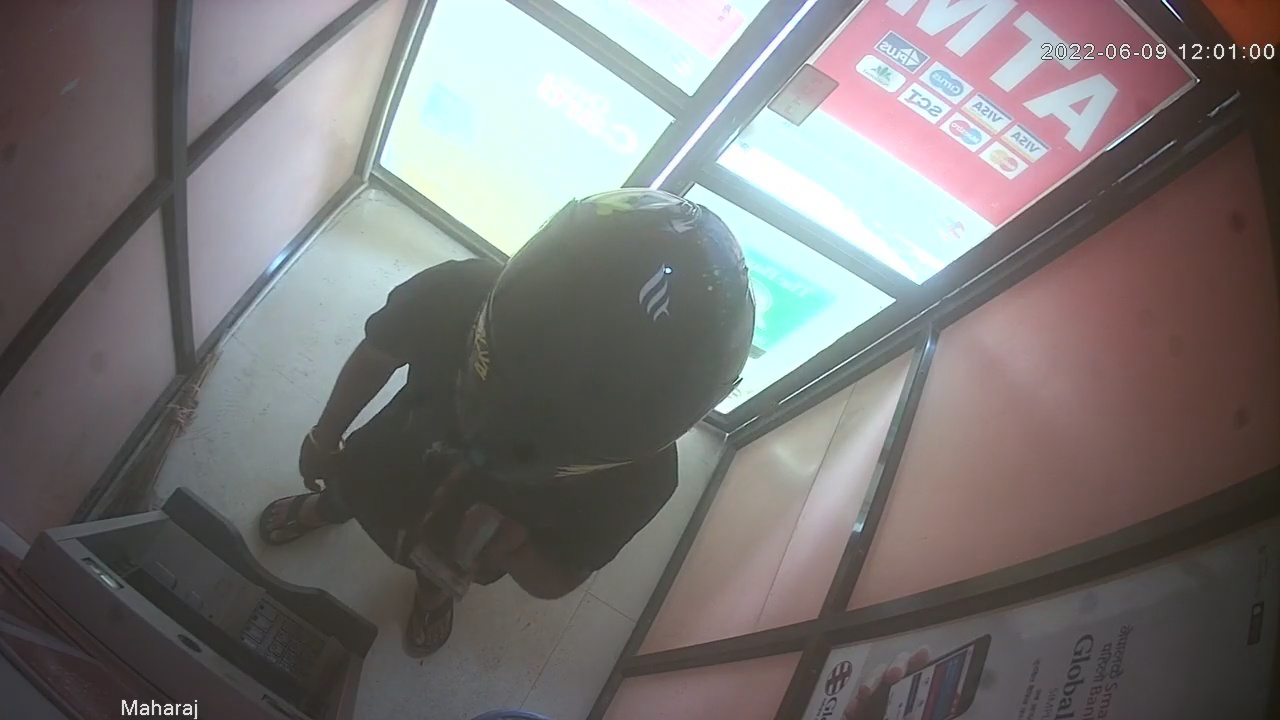helmet: (457, 187, 758, 478)
person: (257, 186, 758, 657)
